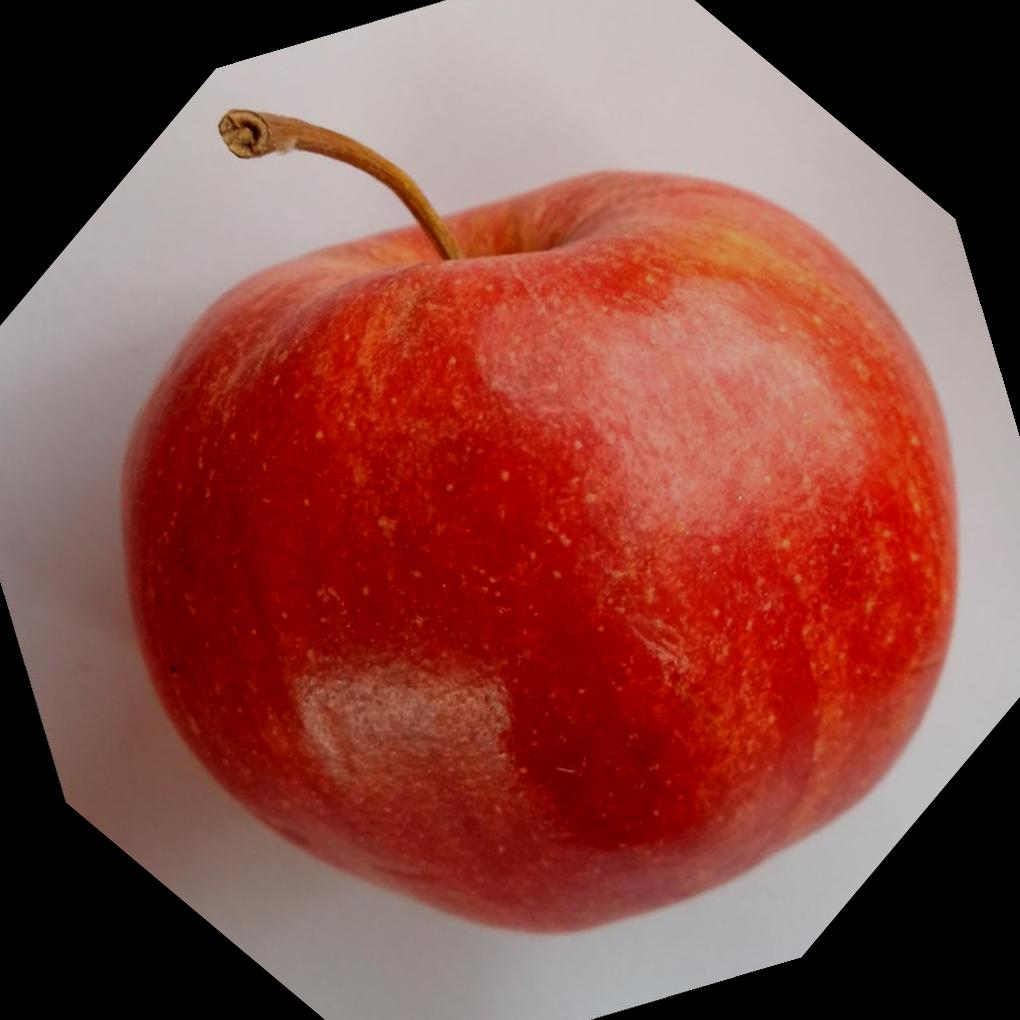FreshGuava: (118, 165, 964, 941)
